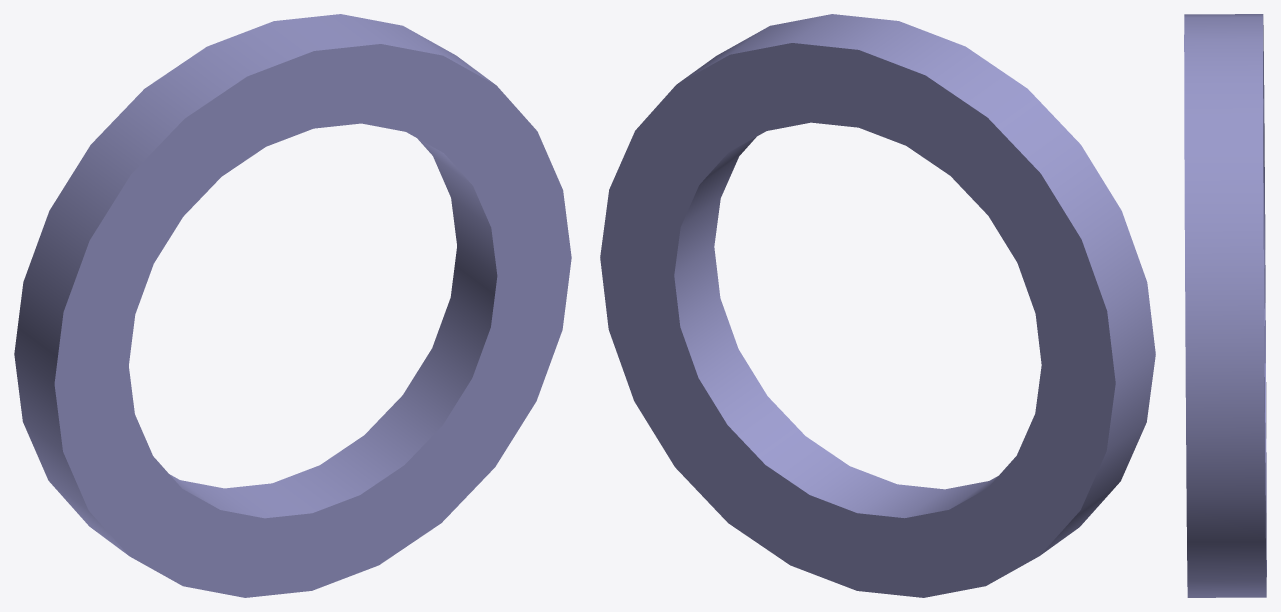
File: EDCBellowFlangePipe.gltf
3 views of the same model, side by side, from view 1: azimuth 30°, elevation 25°; view 2: azimuth 150°, elevation 25°; view 3: azimuth 270°, elevation 25° (orthographic).
Visible parts, largest first — view 1: logicEDCBellowFlangePipe_pv0x223cbd0; view 2: logicEDCBellowFlangePipe_pv0x223cbd0; view 3: logicEDCBellowFlangePipe_pv0x223cbd0.
Part boxes in pixels (<box>): logicEDCBellowFlangePipe_pv0x223cbd0: <box>14,14,571,597</box>; logicEDCBellowFlangePipe_pv0x223cbd0: <box>600,14,1155,597</box>; logicEDCBellowFlangePipe_pv0x223cbd0: <box>1184,14,1266,597</box>.
Bounding box in the file's own units: 42.25 × 42.28 × 5.96.
